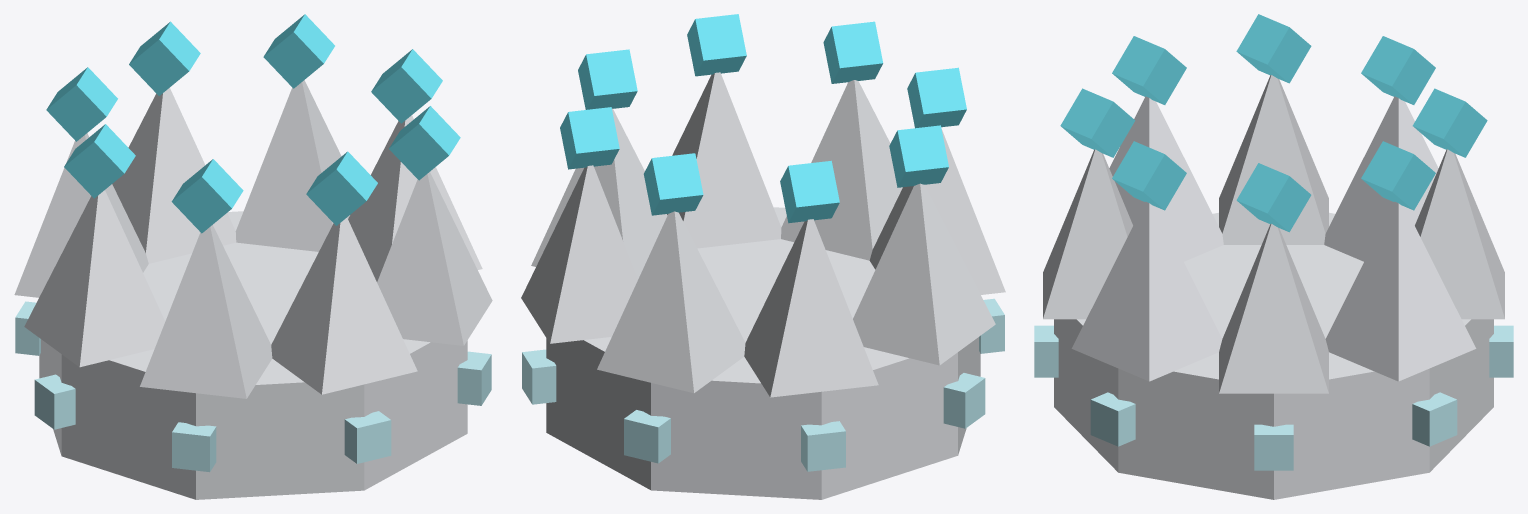
The model's file is DiamondCrown.fbx.
The picture shows the model from 3 angles, left to right: view 1: azimuth 30°, elevation 25°; view 2: azimuth 150°, elevation 25°; view 3: azimuth 270°, elevation 25°; orthographic projection. The views are drawn at different scales.
Parts seen in each view (by area): view 1: DiamondCrown; view 2: DiamondCrown; view 3: DiamondCrown.
Part boxes in pixels (x1,y1,x2,y2): DiamondCrown: (14,14,492,499); DiamondCrown: (521,14,1005,499); DiamondCrown: (1034,14,1513,499).
Size of the model in its own units: 1.96 by 1.41 by 1.96.
Materials: 1 (1 with a texture image).
